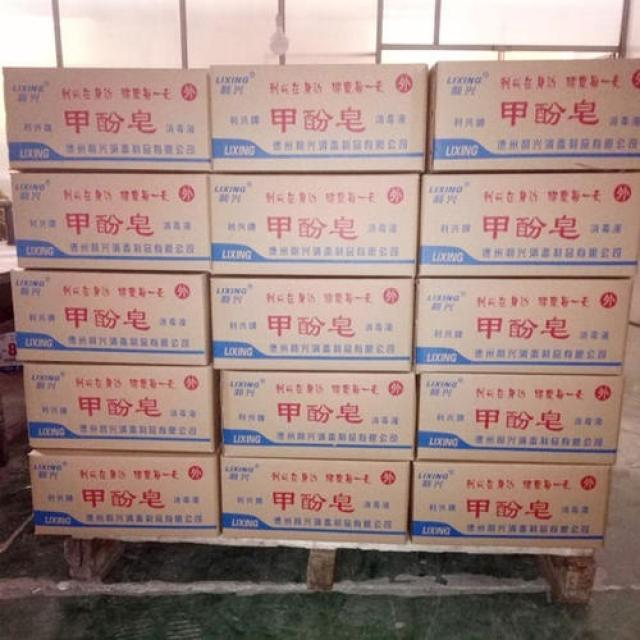Carton: (0, 59, 637, 544)
